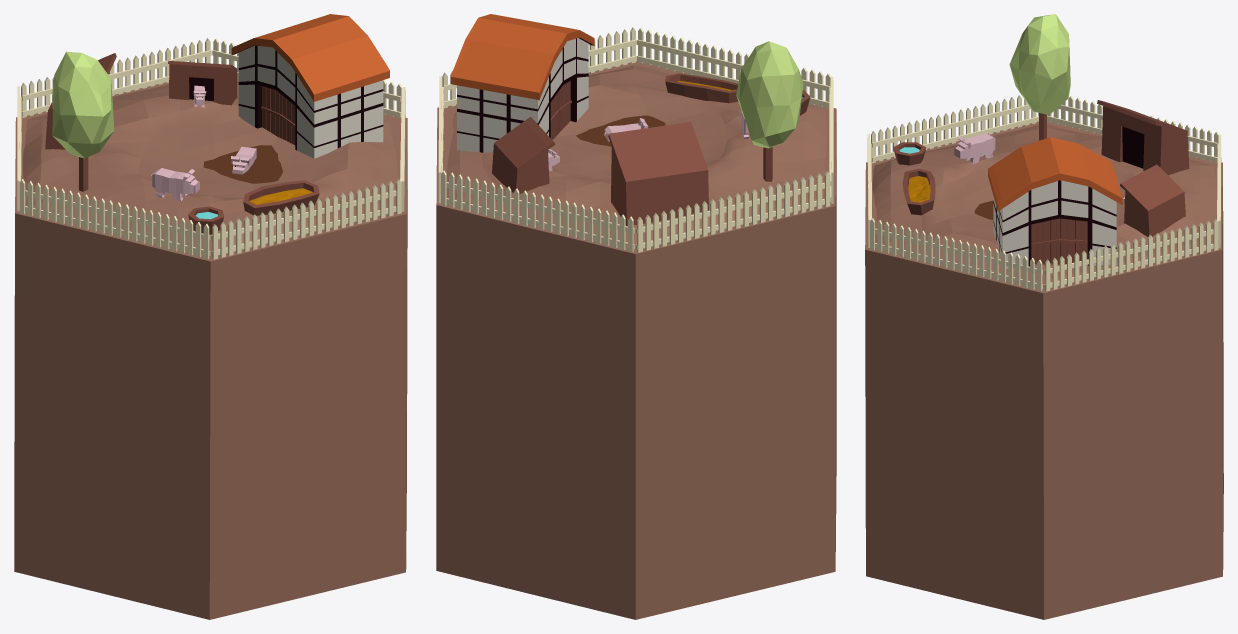
Rendered from settlement_actually_new.fbx.
The picture shows the model from 3 angles, left to right: view 1: azimuth 30°, elevation 25°; view 2: azimuth 150°, elevation 25°; view 3: azimuth 270°, elevation 25°; orthographic projection. The views are drawn at different scales.
Parts seen in each view (by area): view 1: BasePlate.003, Cube.005, Cube.010, Icosphere, Cube.004, Torus.001, Cube.008, Cube.007, Torus, Cube; view 2: BasePlate.003, Cube.010, Cube.005, Cube, Icosphere, Cube.004, Torus.001, Cube.008; view 3: BasePlate.003, Cube.010, Cube.005, Icosphere, Cube, Cube.004, Torus.001, Cube.007, Torus.
Part boxes in pixels (box(x1,y1,x2,y2)): BasePlate.003: box(14, 78, 407, 619); Cube.005: box(231, 14, 389, 158); Cube.010: box(17, 38, 405, 259); Icosphere: box(52, 51, 114, 158); Cube.004: box(168, 60, 237, 105); Torus.001: box(243, 180, 319, 215); Cube.008: box(203, 145, 282, 183); Cube.007: box(151, 168, 199, 200); Torus: box(188, 206, 223, 234); Cube: box(45, 53, 116, 149); BasePlate.003: box(436, 61, 836, 619); Cube.010: box(438, 27, 833, 252); Cube.005: box(450, 14, 594, 152); Cube: box(608, 122, 708, 226); Icosphere: box(736, 41, 803, 148); Cube.004: box(492, 117, 555, 194); Torus.001: box(665, 73, 738, 103); Cube.008: box(576, 115, 665, 146); BasePlate.003: box(865, 121, 1223, 619); Cube.010: box(867, 95, 1221, 291); Cube.005: box(988, 137, 1122, 268); Icosphere: box(1009, 14, 1070, 114); Cube: box(1097, 100, 1189, 175); Cube.004: box(1120, 164, 1185, 236); Torus.001: box(902, 168, 935, 215); Cube.007: box(954, 133, 995, 164); Torus: box(893, 142, 926, 165).
Size of the model in its own units: 40.62 by 49.84 by 35.31.
